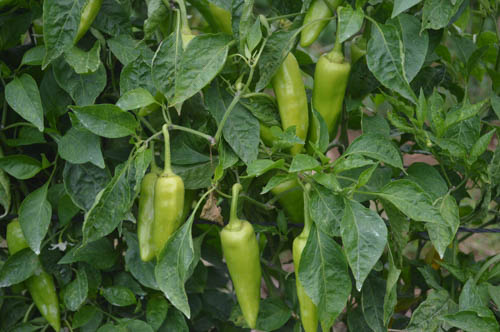ChiliPepper: (7, 221, 61, 325), (222, 224, 261, 329), (310, 56, 349, 150), (270, 52, 307, 147), (290, 240, 317, 328), (154, 176, 180, 264), (138, 172, 159, 264), (299, 4, 339, 51), (274, 175, 304, 223)
